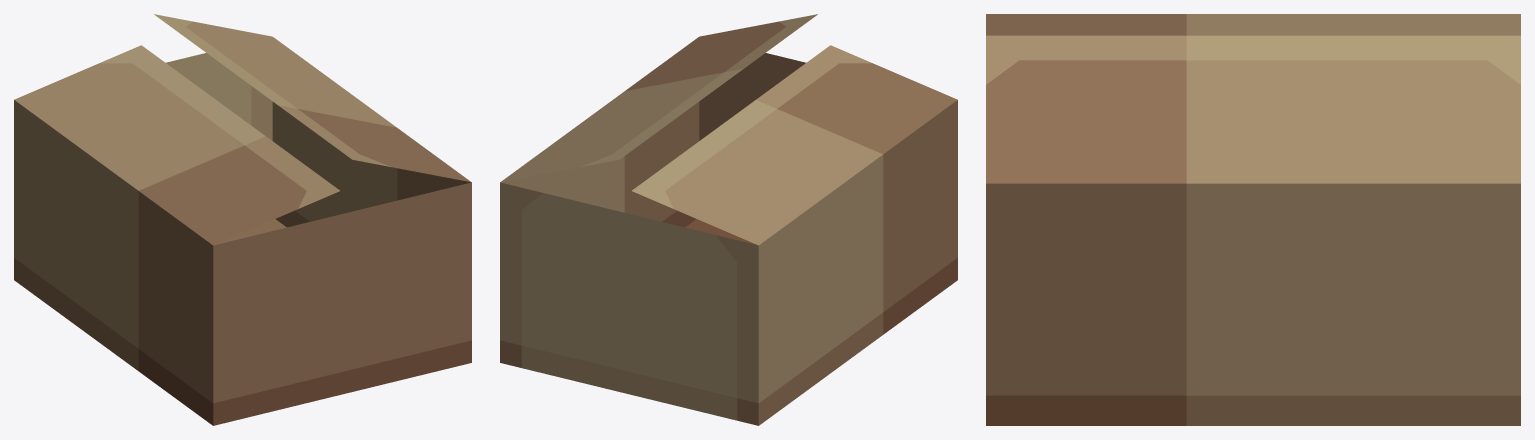
3 views of the same model, side by side, from view 1: azimuth 30°, elevation 25°; view 2: azimuth 150°, elevation 25°; view 3: azimuth 270°, elevation 25° (orthographic). The views are drawn at different scales.
Parts seen in each view (by area): view 1: body, flap2, flap1; view 2: body, flap2, flap1; view 3: body, flap1, flap2.
Part boxes in pixels (x1,y1,x2,y2): body: (14,53,471,425); flap2: (14,45,339,245); flap1: (154,14,471,182); body: (500,53,957,425); flap2: (632,45,957,245); flap1: (500,14,817,182); body: (986,183,1520,425); flap1: (986,35,1520,183); flap2: (986,14,1520,35).
Size of the model in its own units: 75 by 64.35 by 100.
1 material, 1 textured.
